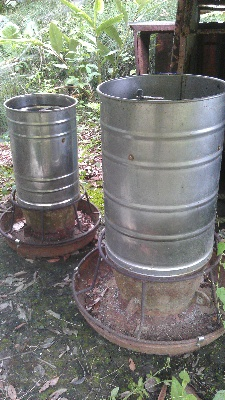bucket: (95, 71, 225, 274), (2, 93, 86, 207)
plate: (72, 245, 225, 357), (1, 196, 102, 258)
